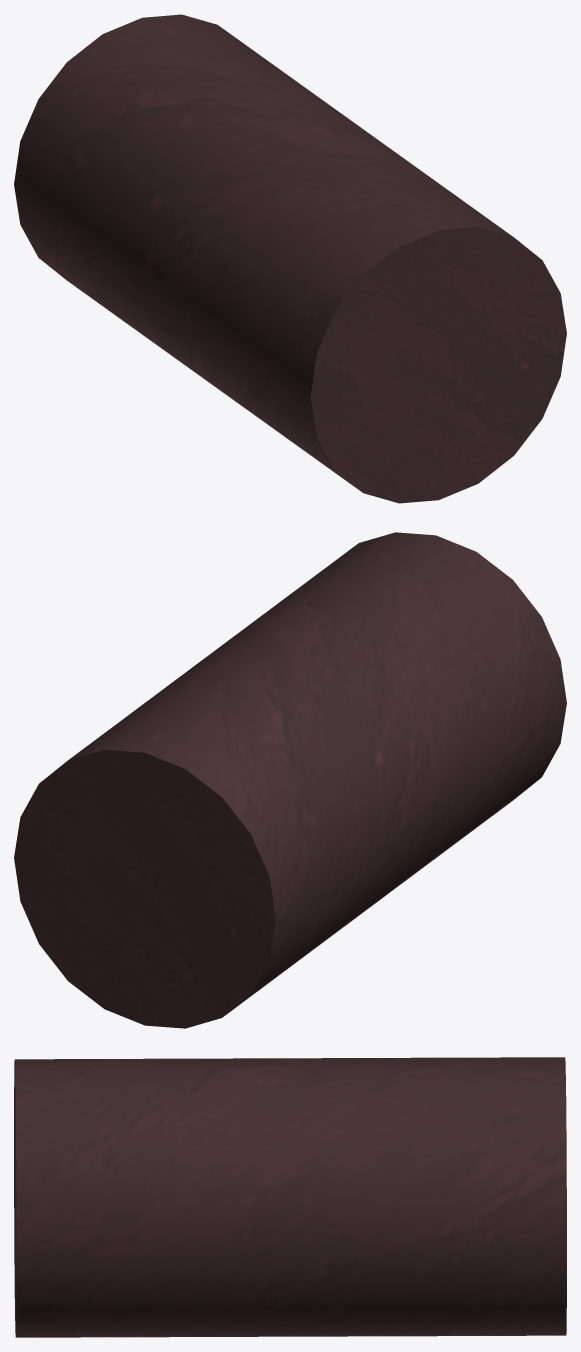
Rendered from SpinningCylinder (17).fbx.
3 renders of one model, top to bottom at view 1: azimuth 30°, elevation 25°; view 2: azimuth 150°, elevation 25°; view 3: azimuth 270°, elevation 25°, orthographic. The views are drawn at different scales.
Parts seen in each view (by area): view 1: SpinningCylinder__17_; view 2: SpinningCylinder__17_; view 3: SpinningCylinder__17_.
Boxes of the visible parts, box(x1,y1,x2,y2) form: SpinningCylinder__17_: box(14, 14, 566, 503); SpinningCylinder__17_: box(14, 532, 566, 1028); SpinningCylinder__17_: box(14, 1057, 566, 1337).
Bounding box in the file's own units: 671 × 660 × 1301.
